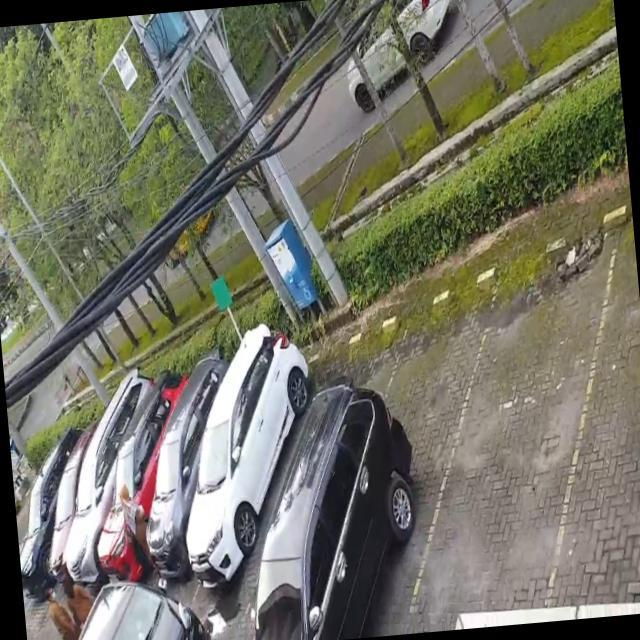empty: (394, 288, 572, 632)
occupied: (301, 345, 425, 640), (172, 376, 266, 608)
